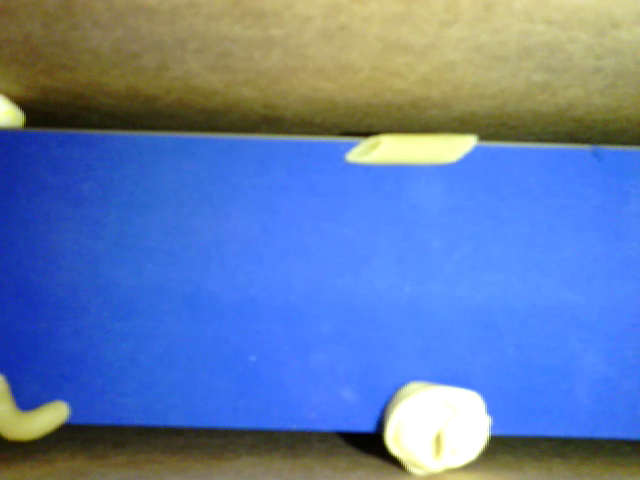elbow: (1, 374, 71, 441)
penne: (345, 134, 478, 165)
tortellini: (383, 379, 493, 475)
